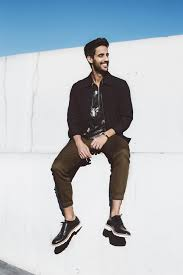middle_eastern_male: (89, 44, 113, 73)
